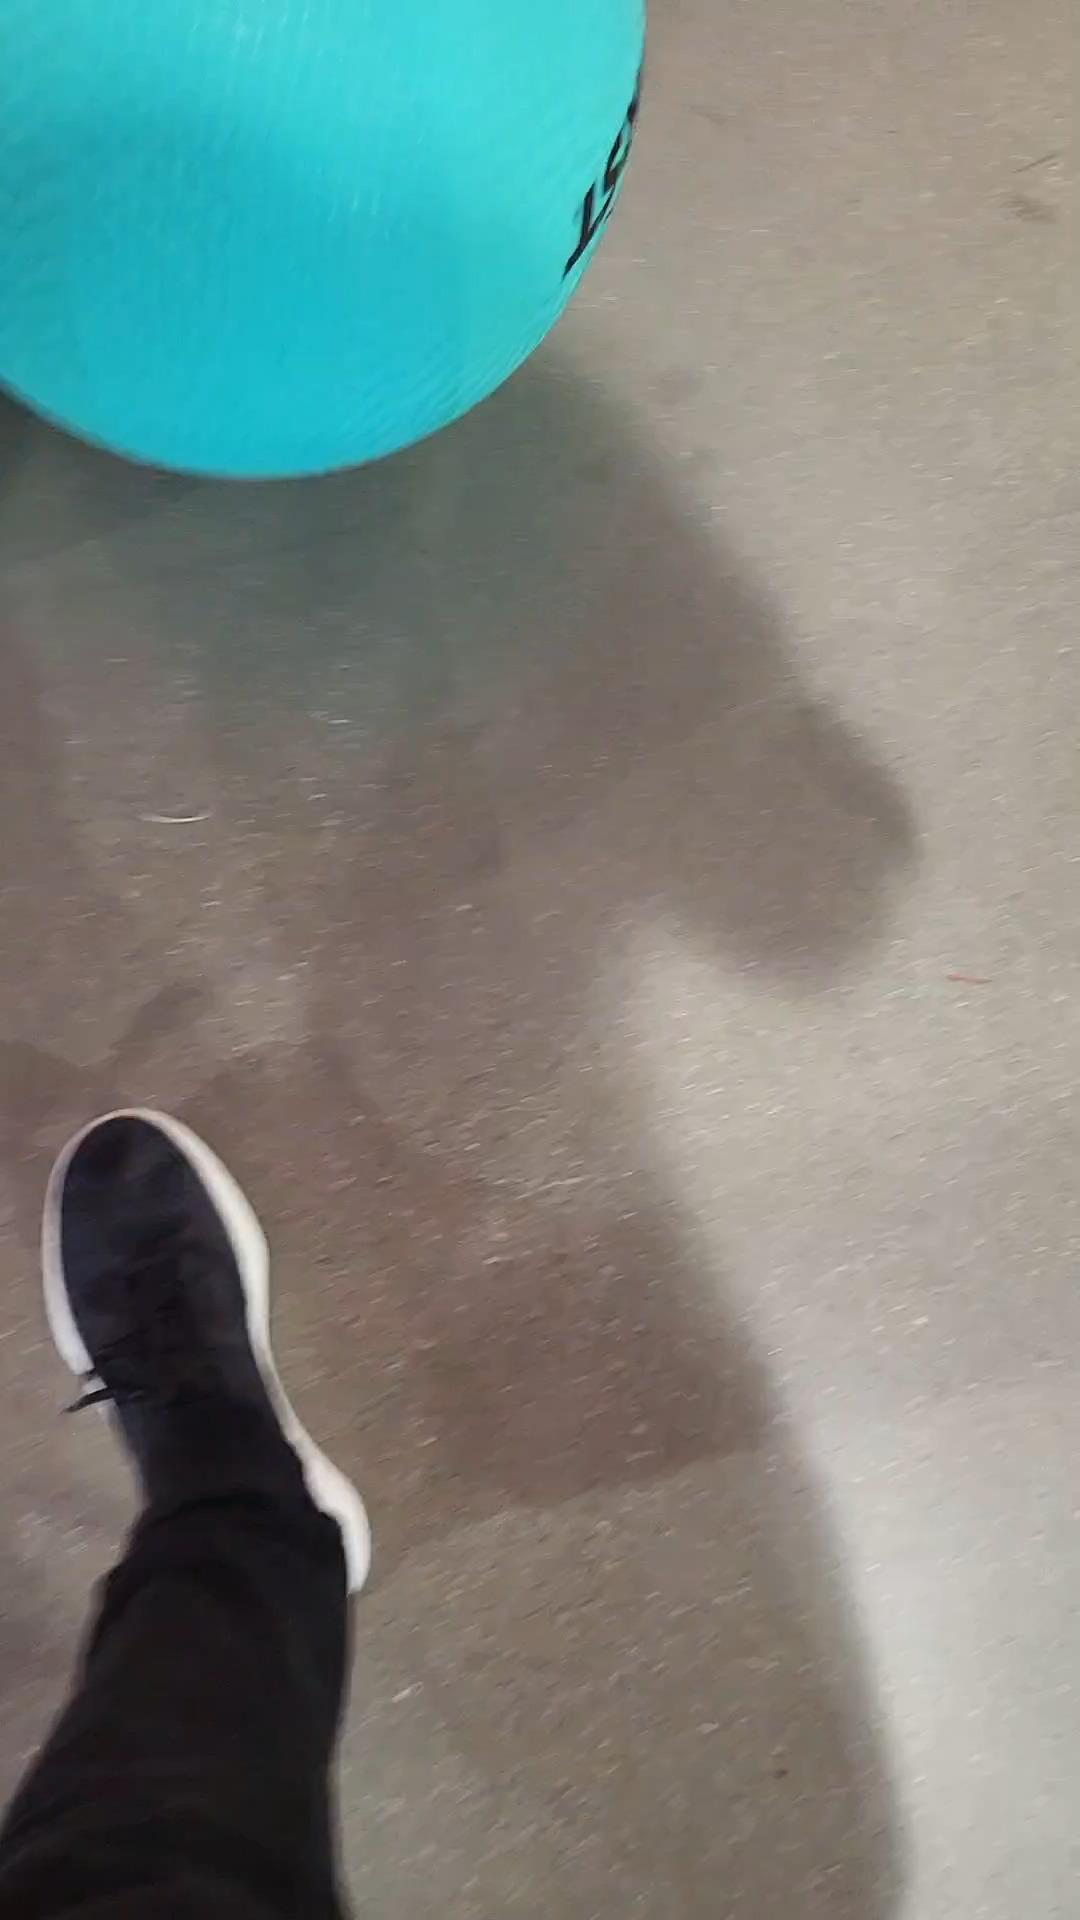algae: (0, 0, 811, 496)
